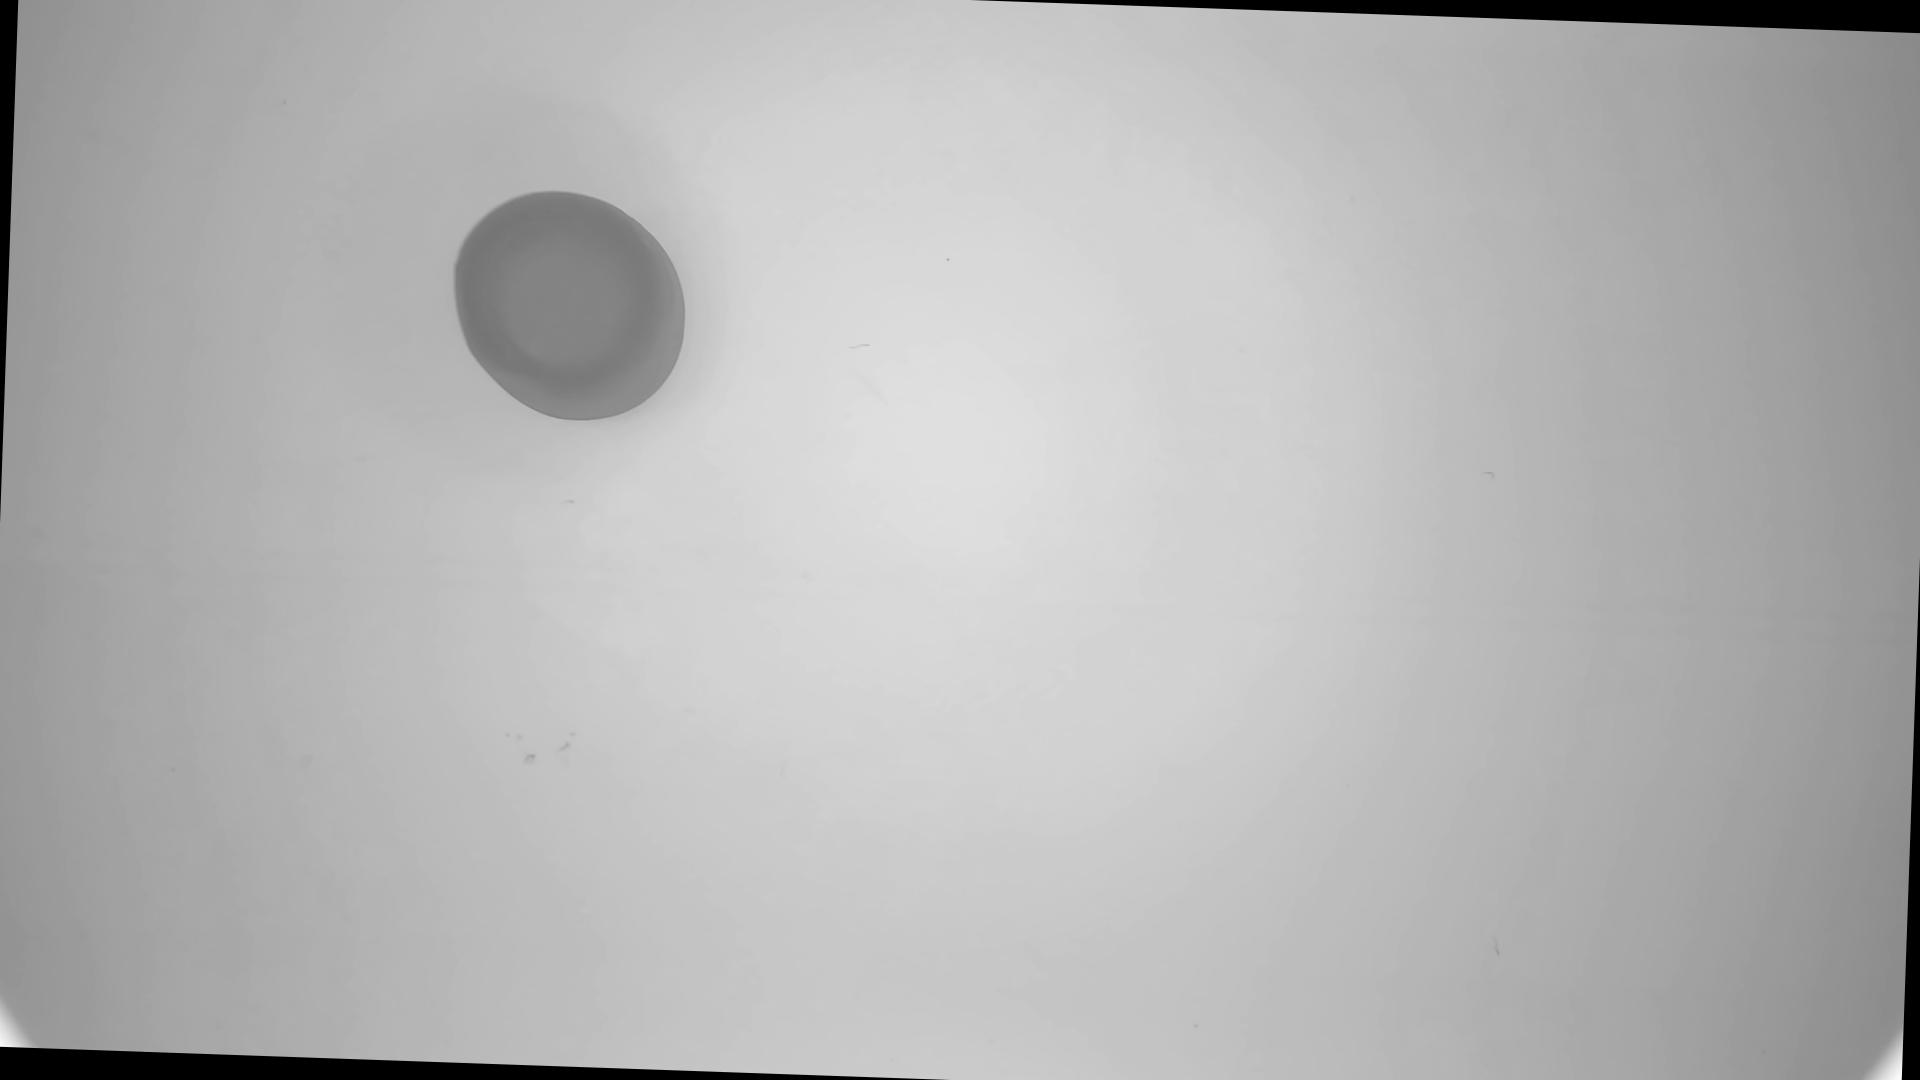normal: (444, 185, 696, 431)
